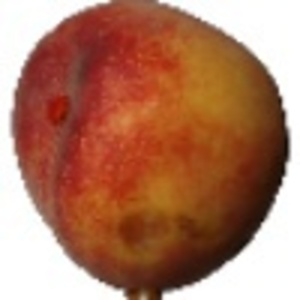pêssego: (9, 1, 291, 300)
